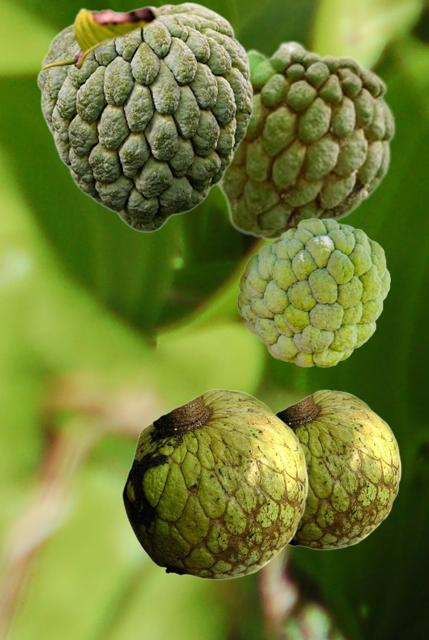atis: (36, 1, 252, 231), (216, 39, 395, 240), (121, 388, 307, 579), (237, 218, 389, 366), (275, 389, 400, 549)
